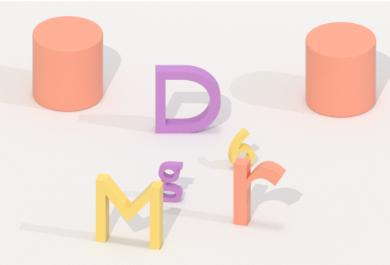0-KhoiTru: (26, 12, 117, 117), (300, 17, 383, 123)
6: (224, 124, 259, 171)
D: (148, 60, 223, 138)
M: (93, 169, 166, 253)
g: (154, 155, 188, 207)
r: (230, 153, 288, 232)
